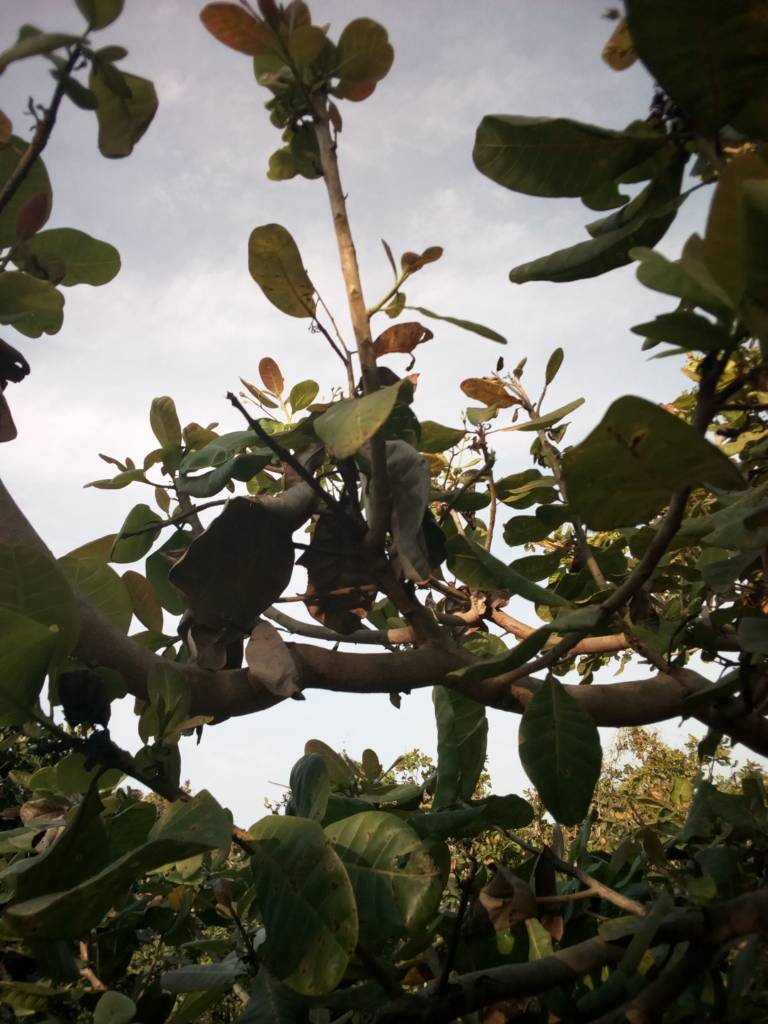Pestalotiose: (33, 792, 230, 924), (254, 808, 357, 994), (321, 391, 391, 458)
